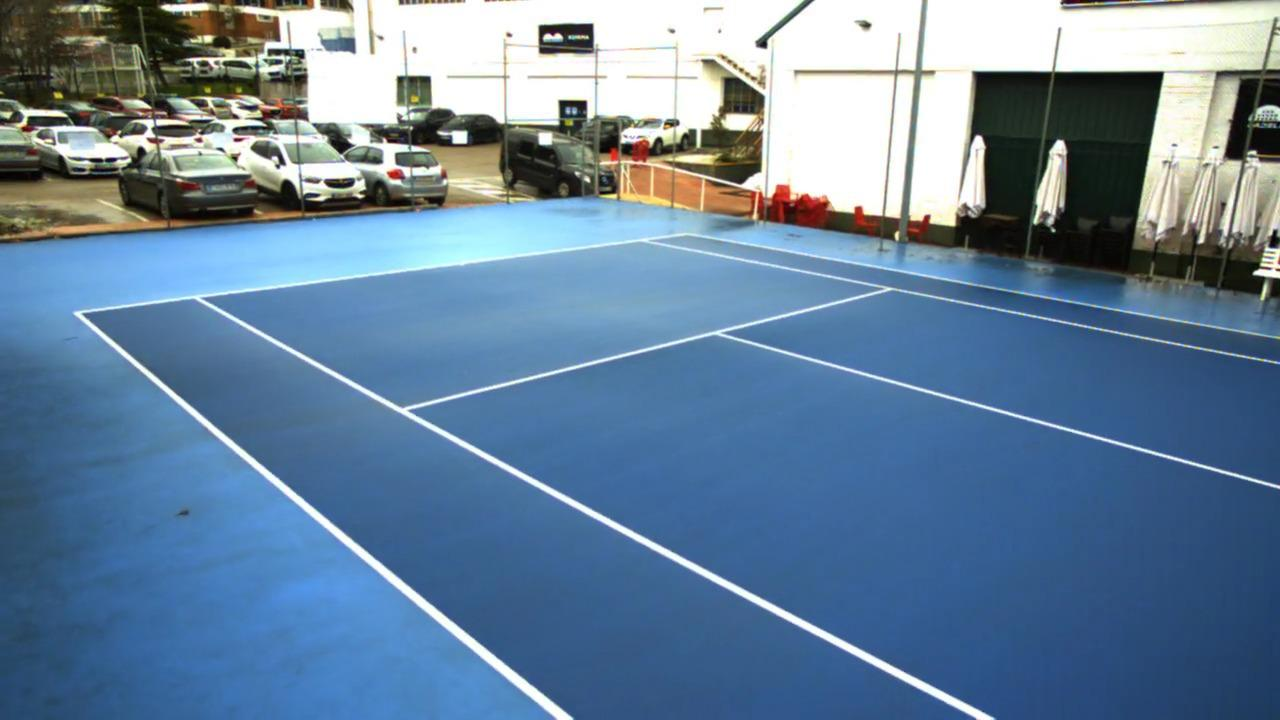cancha_tenis: (197, 237, 1280, 720)
point_f1: (183, 284, 221, 311)
point_f2: (634, 229, 660, 253)
point_fc1: (450, 254, 469, 274)
point_i1: (389, 398, 425, 424)
point_i2: (871, 276, 903, 301)
point_ic1: (700, 317, 735, 348)
